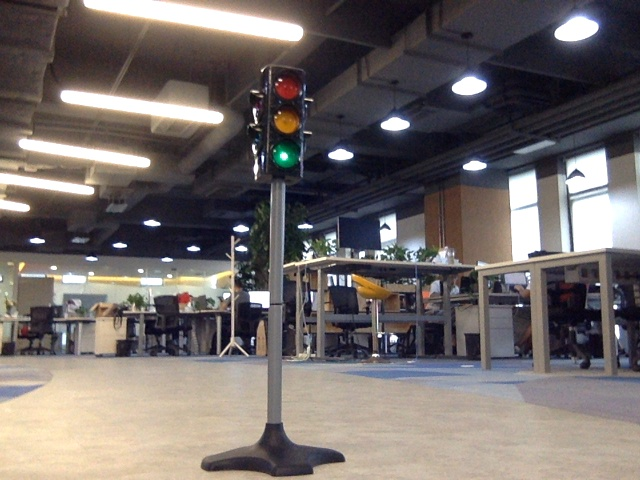green: (263, 75, 302, 175)
